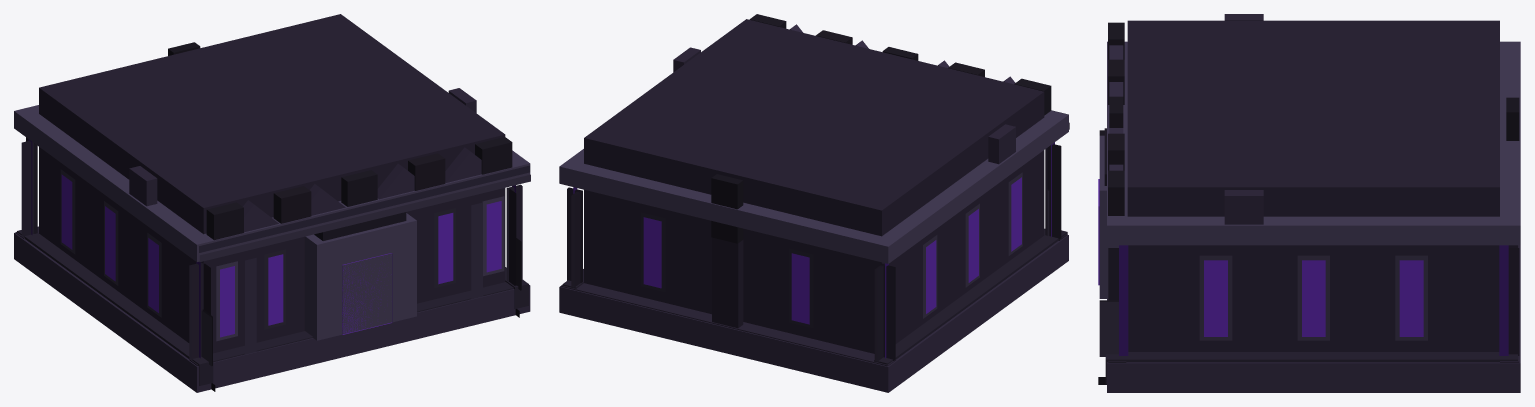
The model's file is ChaosCrownSil.fbx.
3 views of the same model, side by side, from view 1: azimuth 30°, elevation 25°; view 2: azimuth 150°, elevation 25°; view 3: azimuth 270°, elevation 25° (orthographic). The views are drawn at different scales.
Parts seen in each view (by area): view 1: CC_S_All; view 2: CC_S_All; view 3: CC_S_All.
Boxes of the visible parts, left/top/right/bottom form: CC_S_All: left=14, top=14, right=530, bottom=392; CC_S_All: left=559, top=14, right=1069, bottom=392; CC_S_All: left=1098, top=14, right=1520, bottom=392.
Size of the model in its own units: 40.04 by 20 by 38.84.
